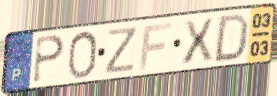D: (211, 12, 251, 64)
F: (138, 20, 174, 72)
O: (66, 29, 100, 81)
P: (31, 34, 66, 85)
X: (181, 16, 215, 67)
Z: (103, 25, 139, 76)
